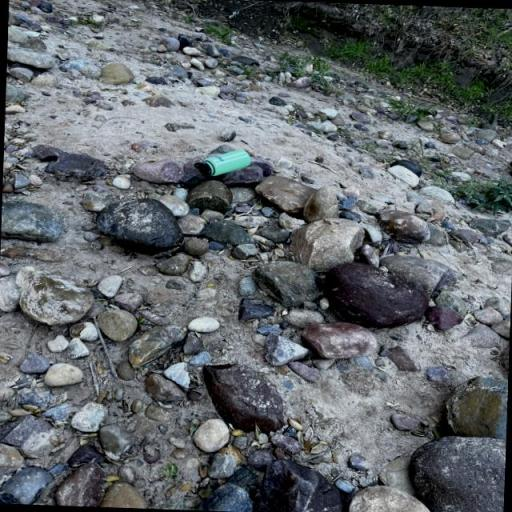bottle: (193, 148, 251, 177)
